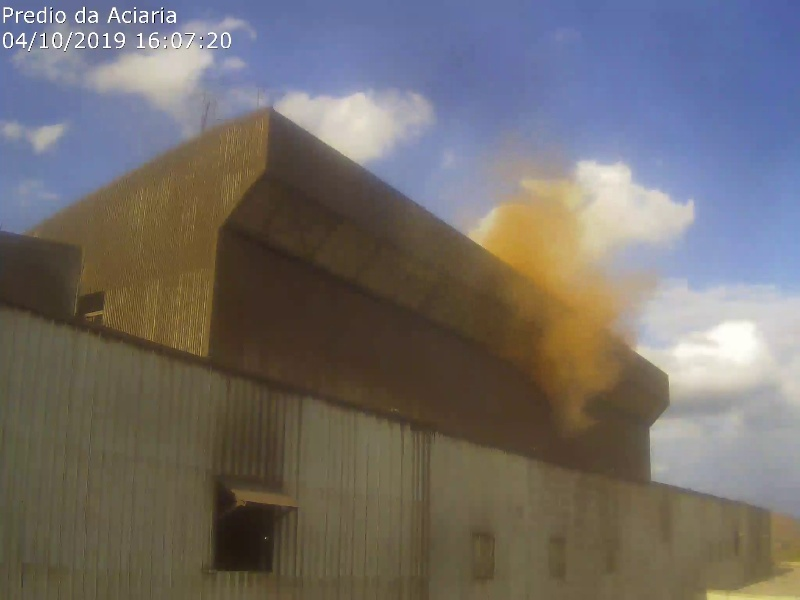bom: (3, 2, 447, 317), (452, 5, 800, 160)
pessimo: (480, 158, 676, 441)
